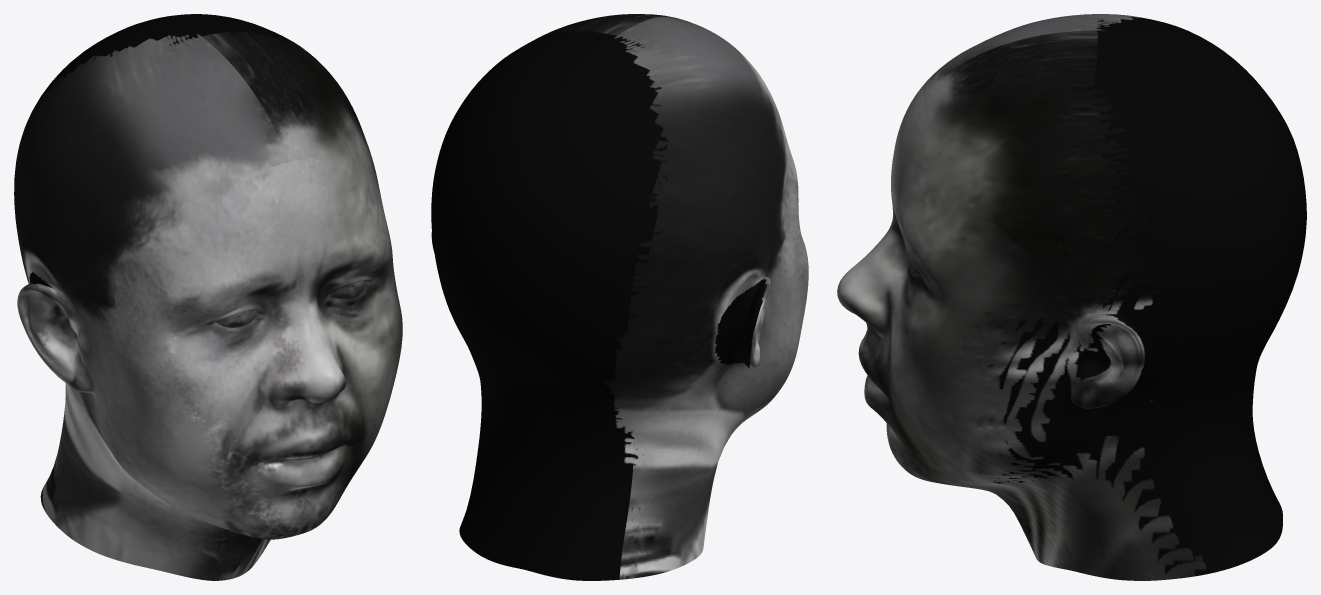
File: mingus.glb
3 views of the same model, side by side, from view 1: azimuth 30°, elevation 25°; view 2: azimuth 150°, elevation 25°; view 3: azimuth 270°, elevation 25° (orthographic). The views are drawn at different scales.
Parts seen in each view (by area): view 1: FBHead.001; view 2: FBHead.001; view 3: FBHead.001.
Boxes of the visible parts, x1=… form: FBHead.001: x1=14, y1=14, x2=402, y2=580; FBHead.001: x1=431, y1=14, x2=808, y2=580; FBHead.001: x1=837, y1=14, x2=1306, y2=580.
Size of the model in its own units: 1.63 by 2.42 by 1.96.
1 material, 1 textured.
